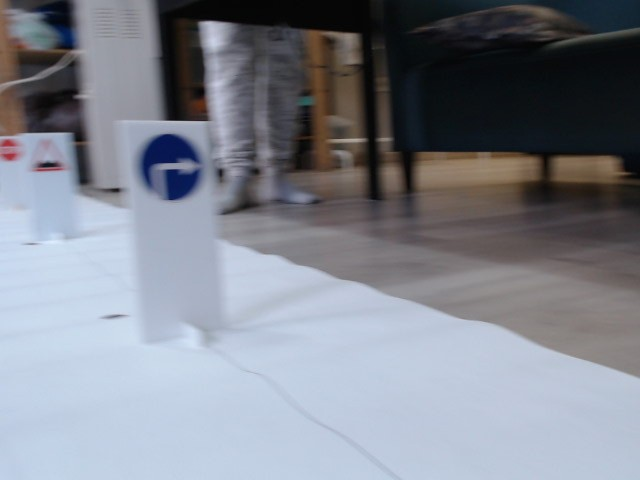Nerov: (29, 140, 71, 173)
Right: (138, 133, 201, 200)
